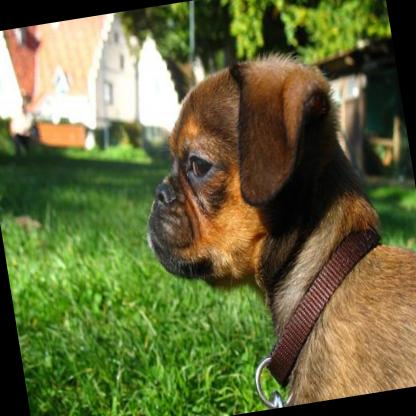Brabancon_griffon: (120, 32, 416, 416)
